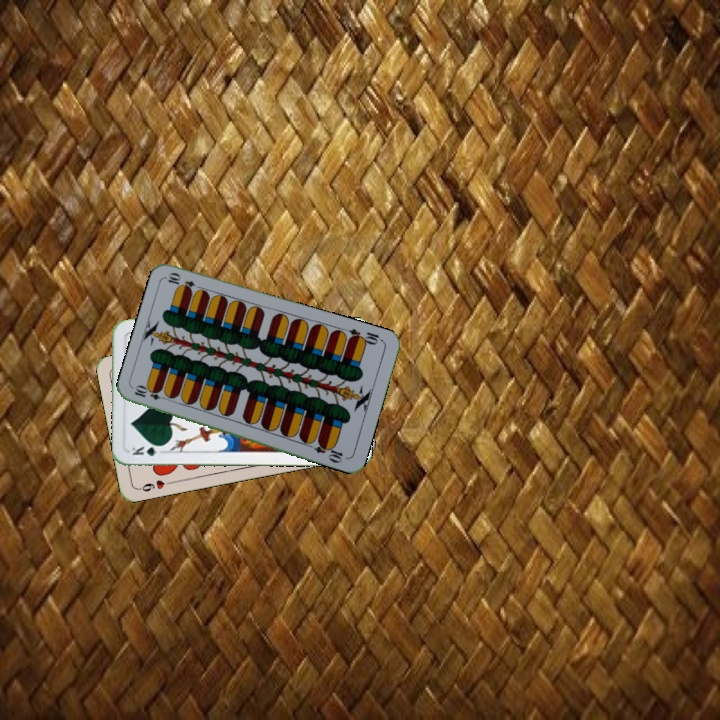E10: (345, 325, 385, 347), (130, 383, 171, 403)
GK: (128, 442, 167, 459)
H9: (134, 476, 174, 494)
